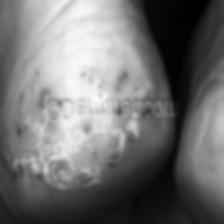Non-Cancerous Skin Condition: (16, 120, 130, 198)
